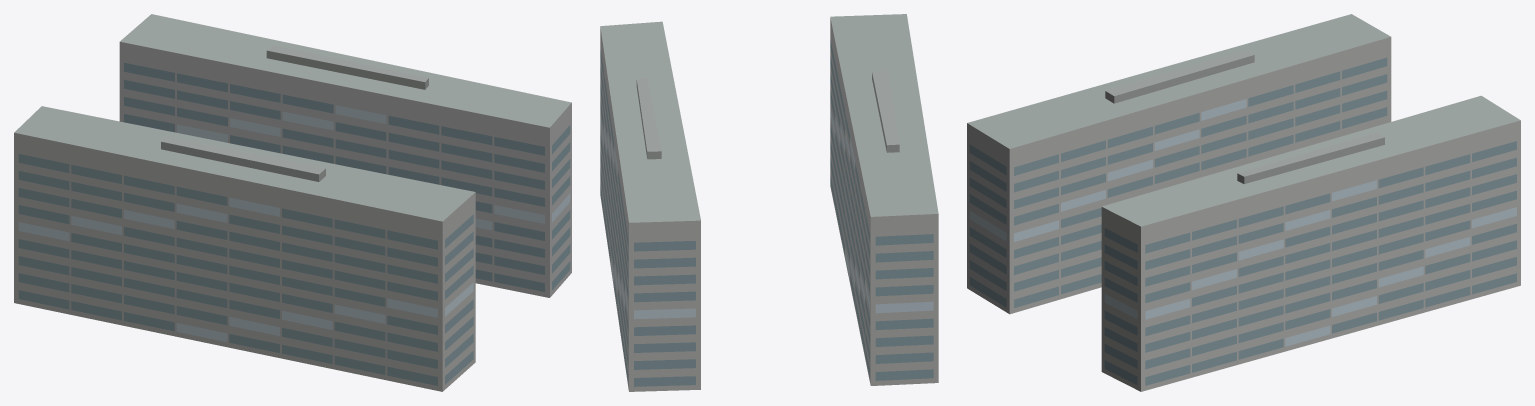
Rendered from apt-a13880201.glb.
3 renders of one model, left to right at view 1: azimuth 30°, elevation 25°; view 2: azimuth 150°, elevation 25°; view 3: azimuth 270°, elevation 25°, orthographic. The views are drawn at different scales.
Visible parts, largest first — view 1: apt-a13880201; view 2: apt-a13880201; view 3: apt-a13880201.
Boxes of the visible parts, bbox=[...] form: apt-a13880201: bbox=[14, 14, 571, 391]; apt-a13880201: bbox=[600, 14, 938, 391]; apt-a13880201: bbox=[967, 14, 1520, 391].
Bounding box in the file's own units: 84.16 × 31.87 × 92.64.
